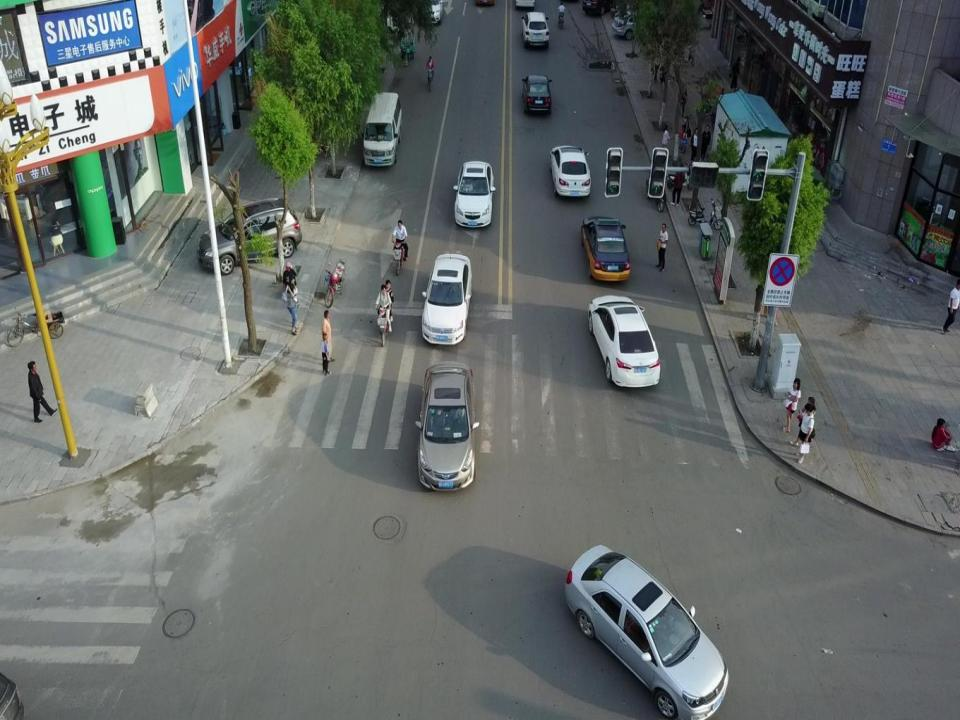car: (564, 545, 740, 720), (416, 364, 478, 492), (198, 198, 302, 274), (589, 296, 661, 388), (421, 255, 472, 345), (582, 216, 631, 282), (454, 161, 493, 228), (548, 146, 592, 196), (612, 11, 664, 39), (522, 75, 552, 116), (522, 12, 550, 48), (412, 0, 443, 25)
van: (364, 92, 402, 168)
